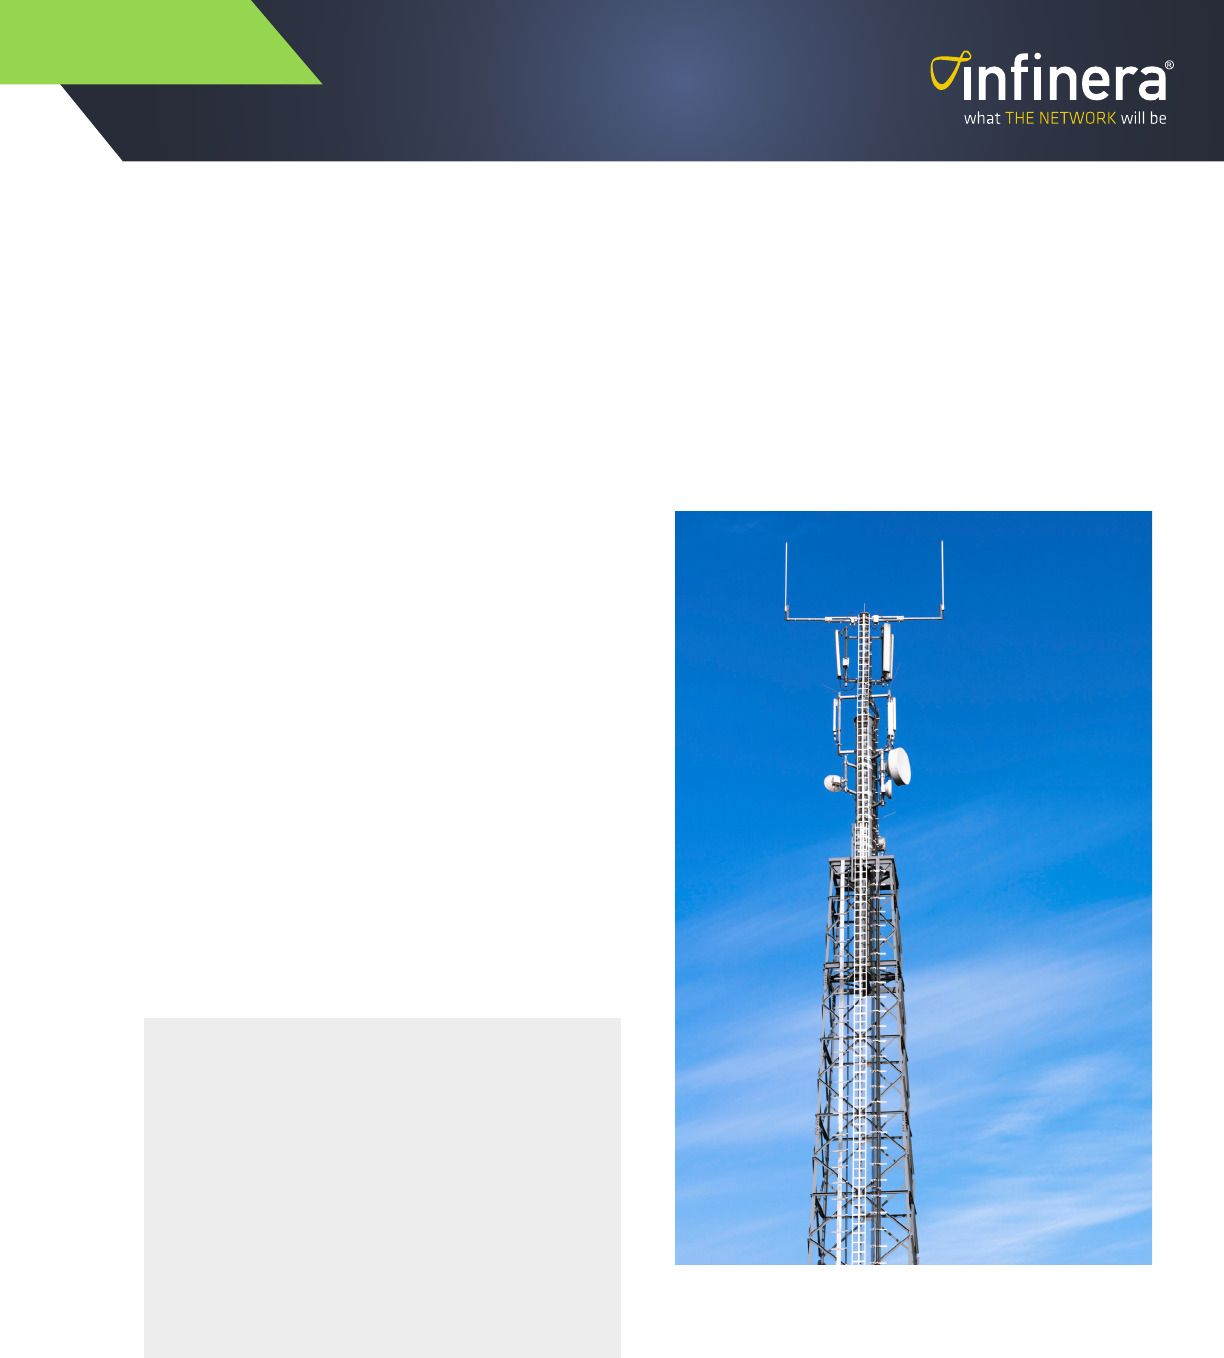ba: (878, 741, 930, 798)
sa: (858, 620, 918, 701)
